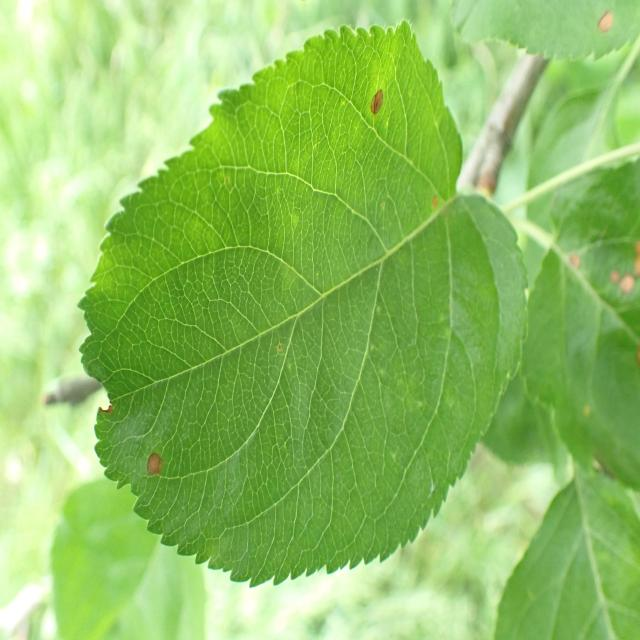frog-eye-leaf-spot: (76, 21, 530, 592), (448, 0, 640, 65)
